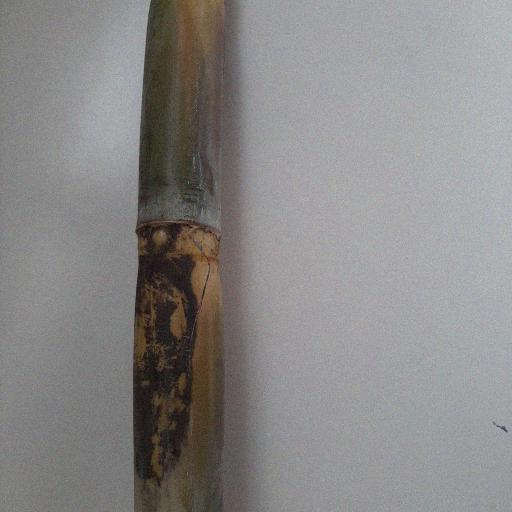Bud: (148, 228, 169, 252)
